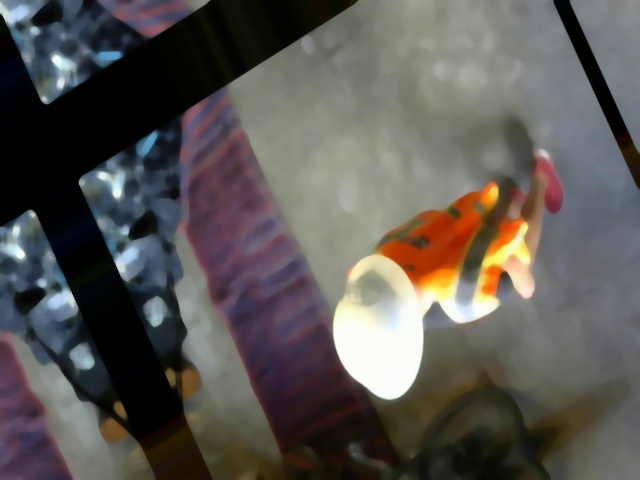eight: (338, 268, 385, 317)
